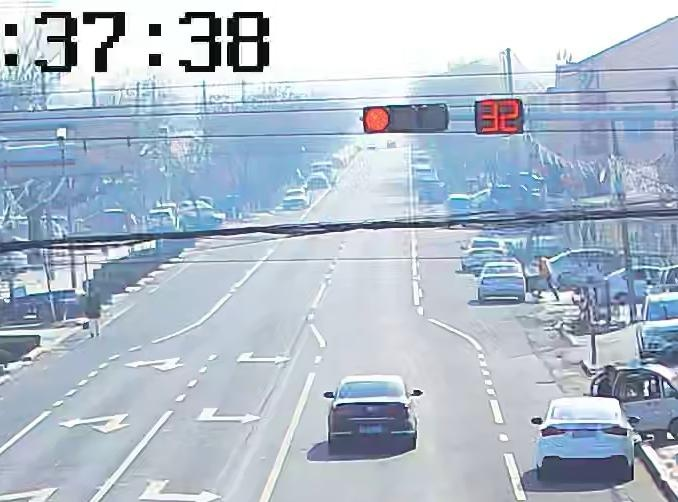red: (363, 109, 390, 133)
redtime: (475, 101, 525, 132)
